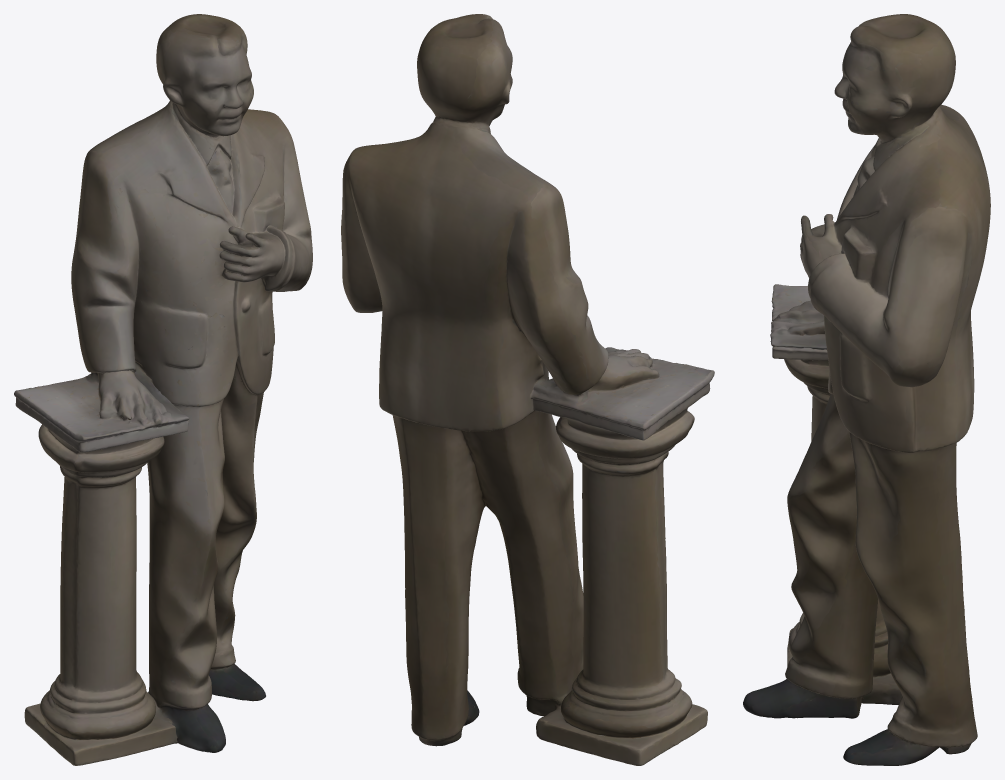
3 views of the same model, side by side, from view 1: azimuth 30°, elevation 25°; view 2: azimuth 150°, elevation 25°; view 3: azimuth 270°, elevation 25° (orthographic). The views are drawn at different scales.
Visible parts, largest first — view 1: world; view 2: world; view 3: world.
Part boxes in pixels (<box>): world: <box>14,14,312,765</box>; world: <box>341,14,714,765</box>; world: <box>743,14,990,765</box>.
Bounding box in the file's own units: 0.4541 × 0.9976 × 0.3109.
Materials: 1 (1 with a texture image).
